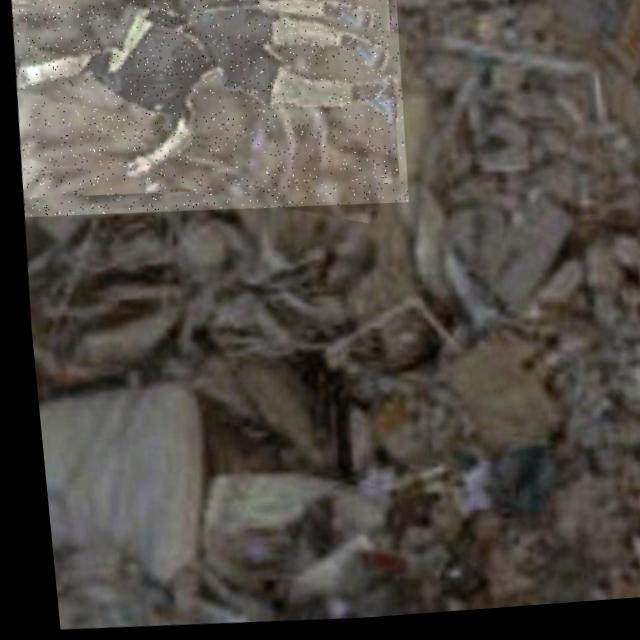Person in Rubble: (3, 0, 411, 229)
